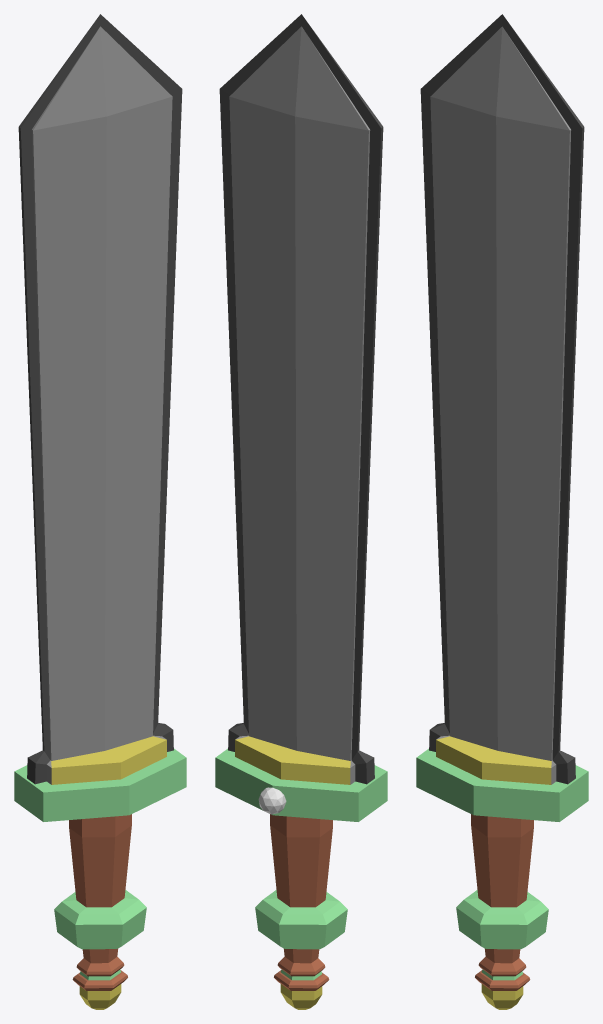
File: sword.fbx
The picture shows the model from 3 angles, left to right: view 1: azimuth 30°, elevation 25°; view 2: azimuth 150°, elevation 25°; view 3: azimuth 330°, elevation 25°; orthographic projection.
Parts seen in each view (by area): view 1: Cylinder; view 2: Cylinder; view 3: Cylinder.
Part boxes in pixels (x1=…): Cylinder: x1=14, y1=14, x2=186, y2=1009; Cylinder: x1=215, y1=14, x2=387, y2=1009; Cylinder: x1=416, y1=14, x2=588, y2=1009.
Bounding box in the file's own units: 323 × 1896 × 225.
